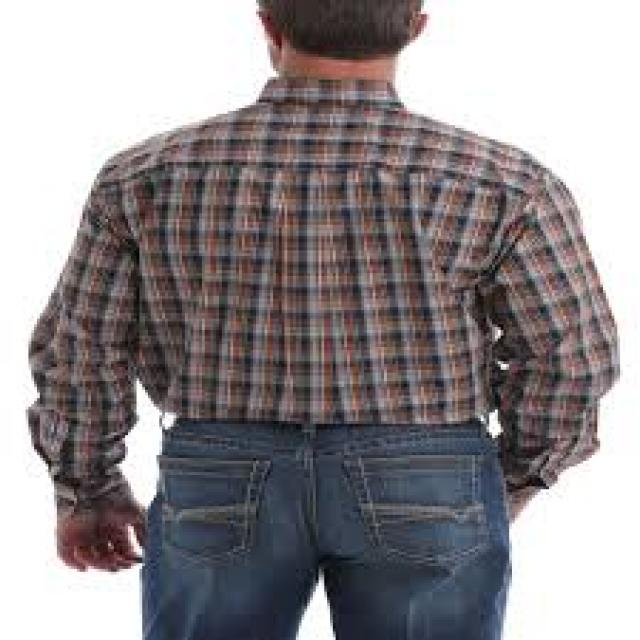plaid: (21, 79, 628, 430)
